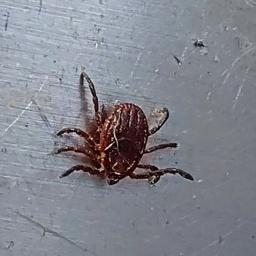Rhipicephalus sanguineus: (56, 71, 195, 187)
